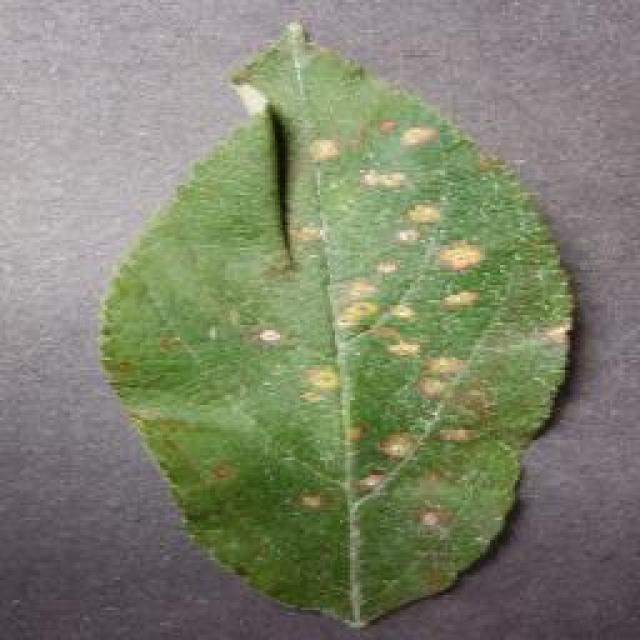apple cedar apple rust: (95, 18, 577, 628)
